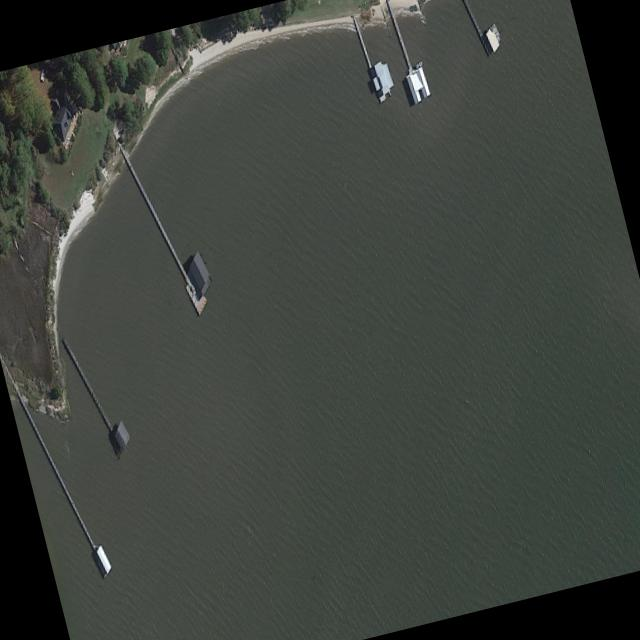ship: (38, 62, 46, 85)
